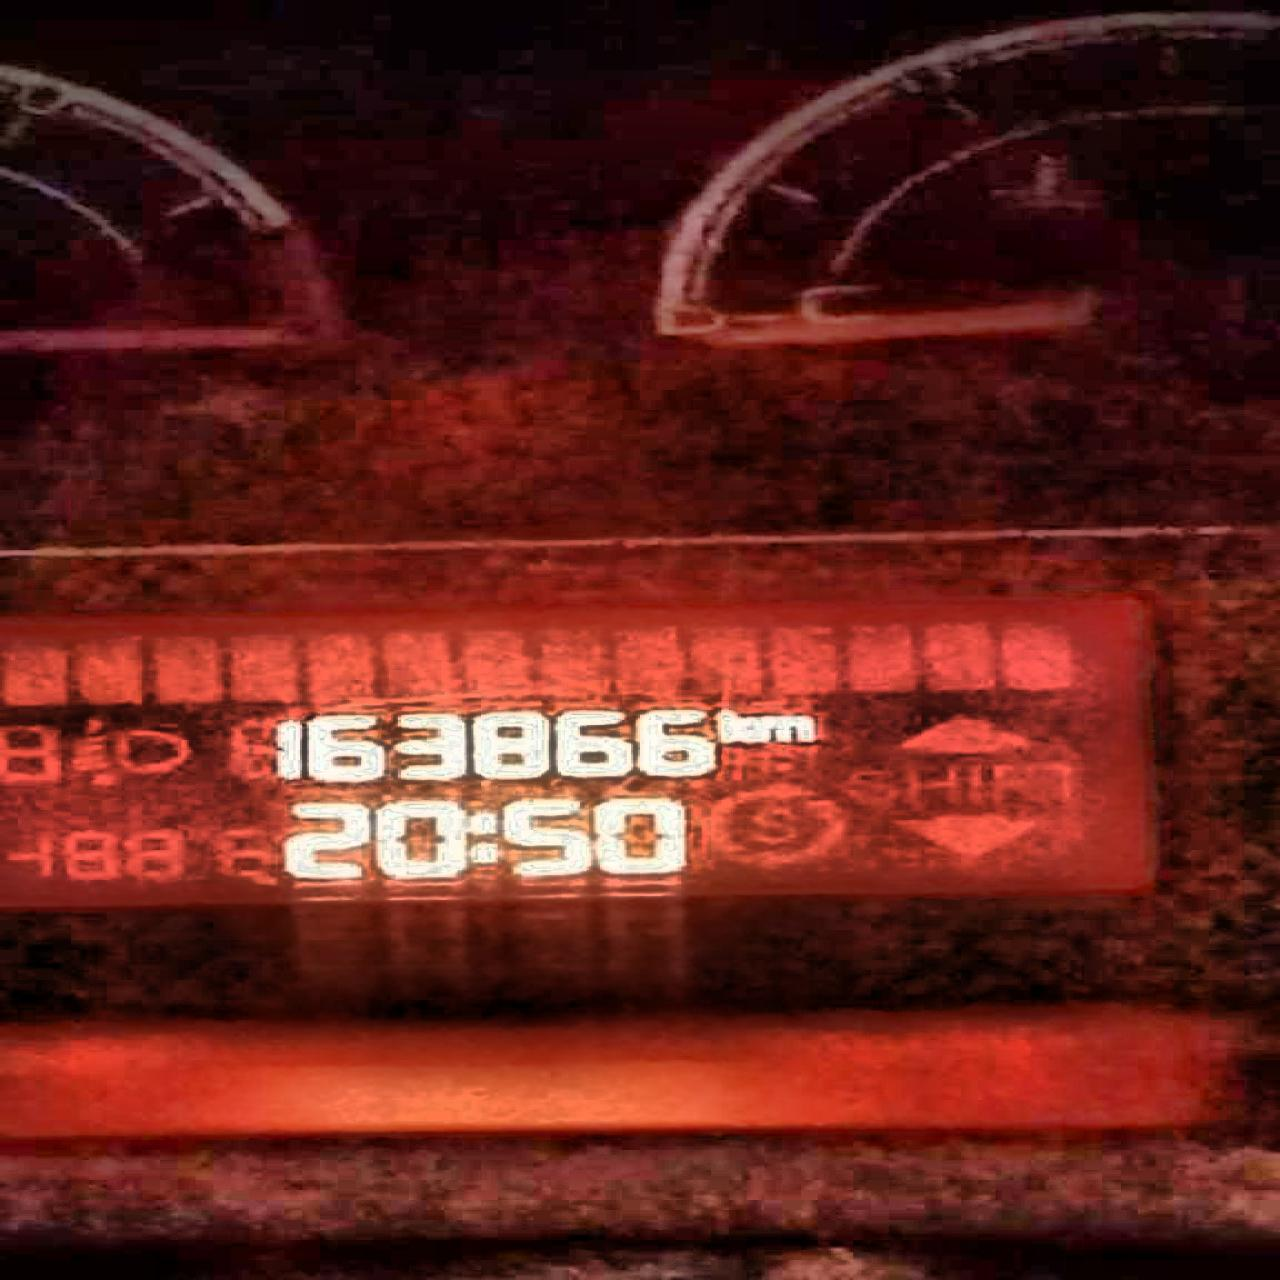0: (595, 795, 685, 879), (374, 797, 464, 878)
1: (267, 710, 302, 787)
2: (282, 798, 372, 881)
3: (392, 709, 467, 782)
5: (499, 795, 593, 879)
6: (305, 710, 387, 784), (633, 707, 715, 777), (553, 708, 631, 778)
8: (471, 708, 549, 783)
X: (754, 713, 818, 747), (714, 703, 754, 749), (469, 808, 498, 866)
odometer: (2, 591, 1162, 914)
